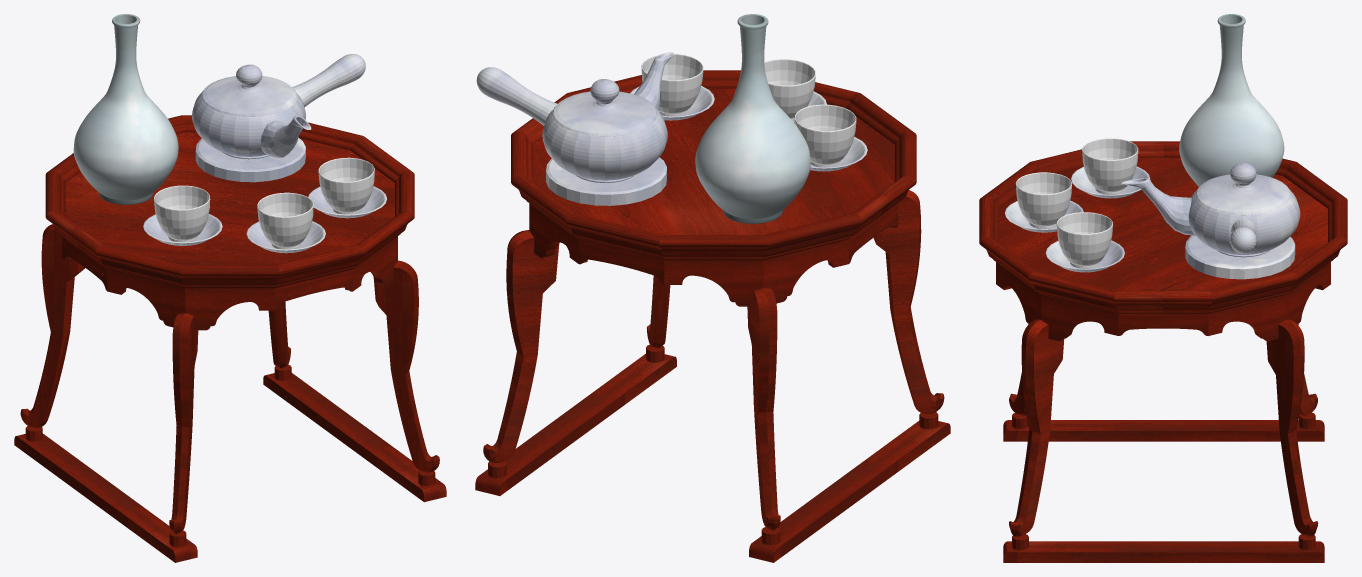
Rendered from table.FBX.
3 views of the same model, side by side, from view 1: azimuth 30°, elevation 25°; view 2: azimuth 150°, elevation 25°; view 3: azimuth 270°, elevation 25° (orthographic). The views are drawn at different scales.
Visible parts, largest first — view 1: Group_1400, 백자 04_001; view 2: Group_1400, 백자 04_001; view 3: Group_1400, 백자 04_001.
Part boxes in pixels (box(x1,y1,x2,y2)): Group_1400: box(14, 115, 446, 562); 백자 04_001: box(73, 14, 386, 253); Group_1400: box(475, 70, 950, 562); 백자 04_001: box(476, 14, 867, 223); Group_1400: box(979, 141, 1347, 562); 백자 04_001: box(1004, 14, 1300, 279).
Size of the model in its own units: 18.95 by 24.08 by 18.15.
